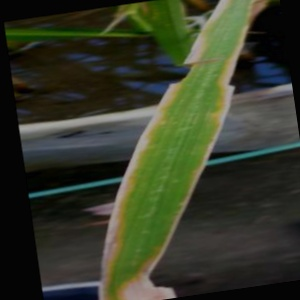Leaf_Blast: (94, 114, 208, 300)
